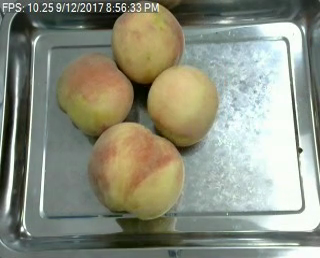Peach: (88, 122, 184, 219), (55, 51, 134, 135), (146, 64, 219, 146), (110, 2, 183, 82)
